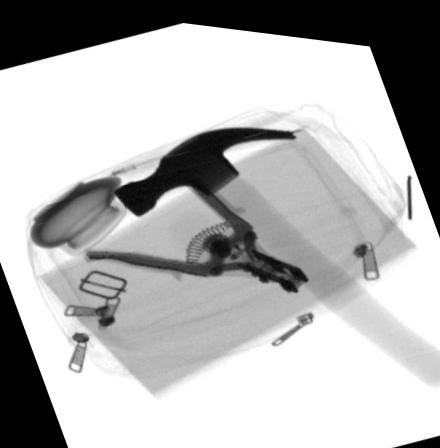Hammer: (111, 120, 440, 377)
Pliers: (80, 146, 308, 288)
